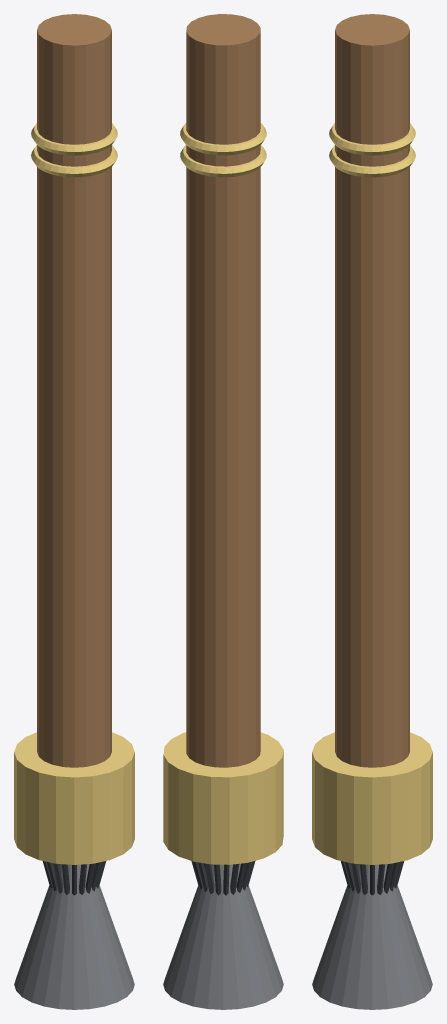
File: writing_fude.glb
3 renders of one model, left to right at view 1: azimuth 90°, elevation 25°; view 2: azimuth 150°, elevation 25°; view 3: azimuth 270°, elevation 25°, orthographic.
Parts seen in each view (by area): view 1: Long lacquered brush shaft, Ferrule binding, Fine horsehair brush tip, Brush maker seal.001, Brush maker seal; view 2: Long lacquered brush shaft, Ferrule binding, Fine horsehair brush tip, Brush maker seal.001, Brush maker seal; view 3: Long lacquered brush shaft, Ferrule binding, Fine horsehair brush tip, Brush maker seal.001, Brush maker seal.
Boxes of the visible parts, bbox=[...] form: Long lacquered brush shaft: bbox=[37, 14, 111, 767]; Ferrule binding: bbox=[14, 732, 134, 864]; Fine horsehair brush tip: bbox=[14, 864, 134, 1009]; Brush maker seal.001: bbox=[31, 123, 117, 155]; Brush maker seal: bbox=[31, 145, 117, 177]; Long lacquered brush shaft: bbox=[186, 14, 260, 767]; Ferrule binding: bbox=[163, 732, 283, 864]; Fine horsehair brush tip: bbox=[163, 863, 283, 1009]; Brush maker seal.001: bbox=[180, 123, 266, 155]; Brush maker seal: bbox=[180, 145, 266, 177]; Long lacquered brush shaft: bbox=[335, 14, 409, 767]; Ferrule binding: bbox=[312, 732, 432, 864]; Fine horsehair brush tip: bbox=[312, 864, 432, 1009]; Brush maker seal.001: bbox=[329, 123, 415, 155]; Brush maker seal: bbox=[329, 145, 415, 177].
Size of the model in its own units: 0.2235 by 1.95 by 0.2235.
